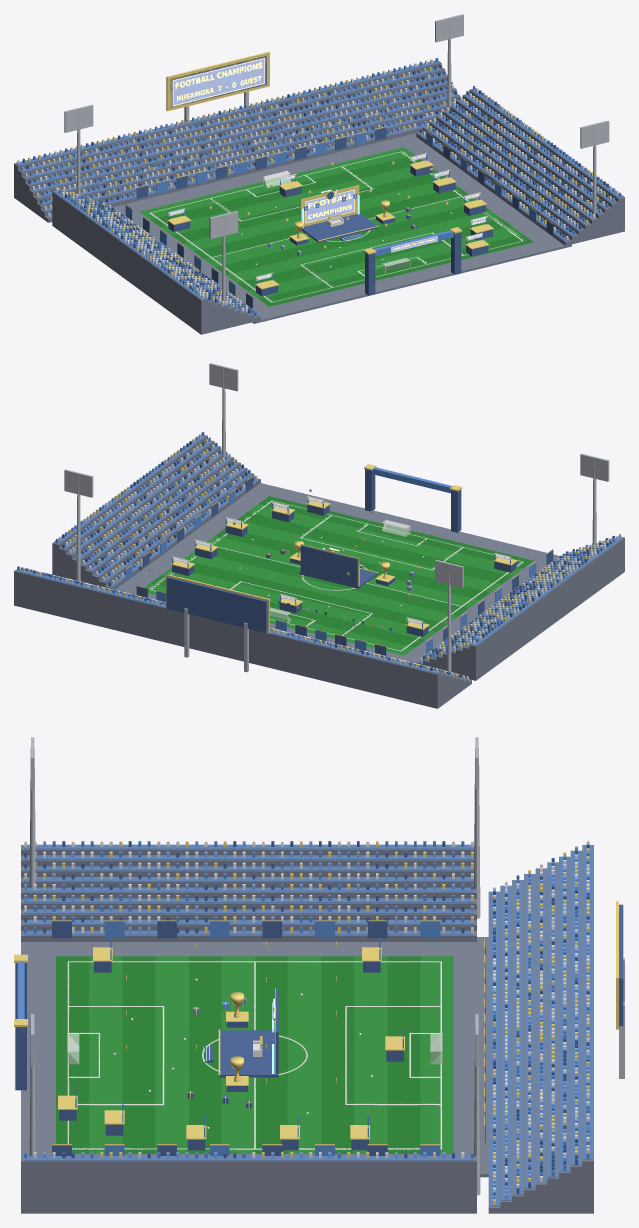
File: compound.glb
3 renders of one model, top to bottom at view 1: azimuth 30°, elevation 25°; view 2: azimuth 150°, elevation 25°; view 3: azimuth 270°, elevation 25°, orthographic. The views are drawn at different scales.
Parts seen in each view (by area): view 1: pitch, stand_north, stand_east, stand_west, scoreboard, floodlights, banners, areas, stage, entrance, goals, trophies; view 2: pitch, stand_north, stand_east, stand_west, scoreboard, floodlights, areas, banners, stage, entrance, goals; view 3: pitch, stand_west, stand_north, stand_east, banners, areas, floodlights, stage, entrance, scoreboard, trophies, goals.
Part boxes in pixels (bbox=[...]): pitch: bbox=[113, 133, 571, 323]; stand_north: bbox=[14, 58, 460, 222]; stand_east: bbox=[416, 85, 624, 245]; stand_west: bbox=[52, 187, 260, 334]; scoreboard: bbox=[166, 52, 269, 121]; floodlights: bbox=[64, 14, 609, 303]; banners: bbox=[125, 126, 553, 308]; areas: bbox=[167, 153, 493, 296]; stage: bbox=[300, 185, 378, 242]; entrance: bbox=[364, 227, 462, 295]; goals: bbox=[263, 171, 410, 274]; trophies: bbox=[289, 200, 395, 245]; pitch: bbox=[115, 483, 559, 662]; stand_north: bbox=[14, 566, 471, 708]; stand_east: bbox=[52, 432, 260, 589]; stand_west: bbox=[416, 533, 624, 680]; scoreboard: bbox=[166, 574, 269, 672]; floodlights: bbox=[64, 363, 609, 671]; areas: bbox=[171, 496, 517, 636]; banners: bbox=[125, 476, 553, 655]; stage: bbox=[299, 544, 378, 588]; entrance: bbox=[364, 464, 462, 532]; goals: bbox=[270, 520, 410, 623]; pitch: bbox=[21, 937, 488, 1177]; stand_west: bbox=[21, 841, 476, 941]; stand_north: bbox=[488, 840, 593, 1213]; stand_east: bbox=[21, 1152, 476, 1213]; banners: bbox=[52, 920, 485, 1155]; areas: bbox=[58, 938, 404, 1150]; floodlights: bbox=[29, 737, 480, 1195]; stage: bbox=[203, 988, 278, 1077]; entrance: bbox=[14, 954, 27, 1090]; scoreboard: bbox=[616, 901, 624, 1078]; trophies: bbox=[226, 992, 248, 1091]; goals: bbox=[67, 1033, 442, 1064].
Bounding box in the file's own units: 128 × 32.6 × 104.
33 materials, 12 textured.
